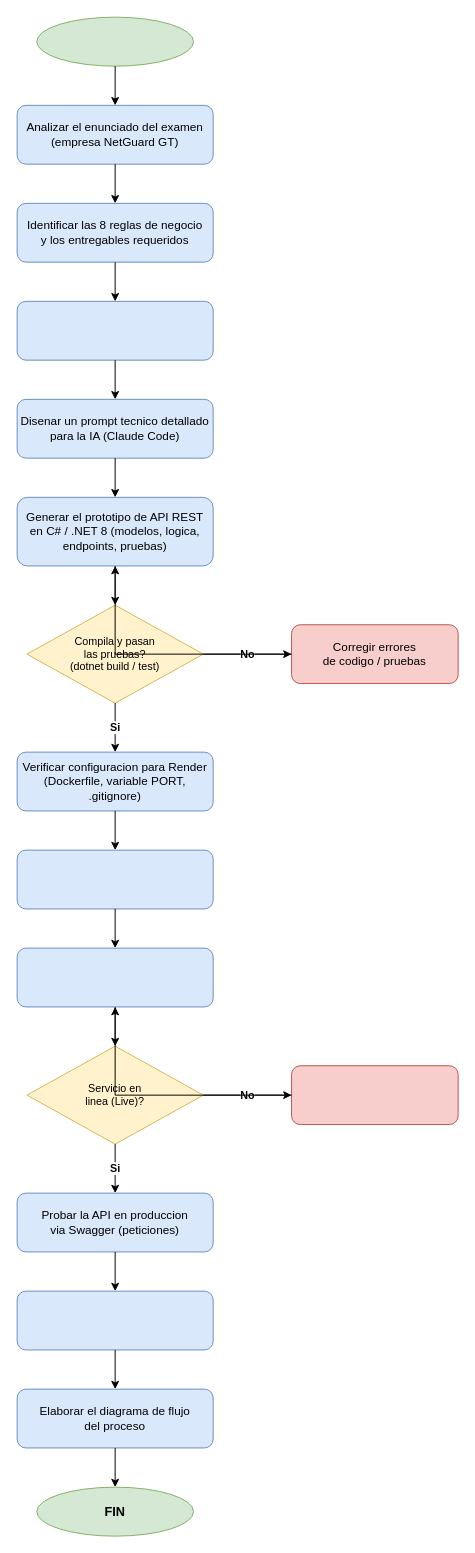
Image size: 475x1553. Some labels were removed from this diagram. Each missing label, with the centre of its shape:
"Desplegar como Web Service en Render.com (Docker)" belongs at (x=114, y=977).
"Elaborar documentacion: README e Informe de uso de IA" belongs at (x=114, y=1320).
"INICIO" belongs at (x=115, y=41).
"Redactar 12 historias de usuario (Como / Quiero / Para + criterios)" belongs at (x=114, y=330).
"Revisar logs del build y corregir" belongs at (x=374, y=1095).
"Subir el proyecto a GitHub (git init, add, commit, push)" belongs at (x=114, y=879).
